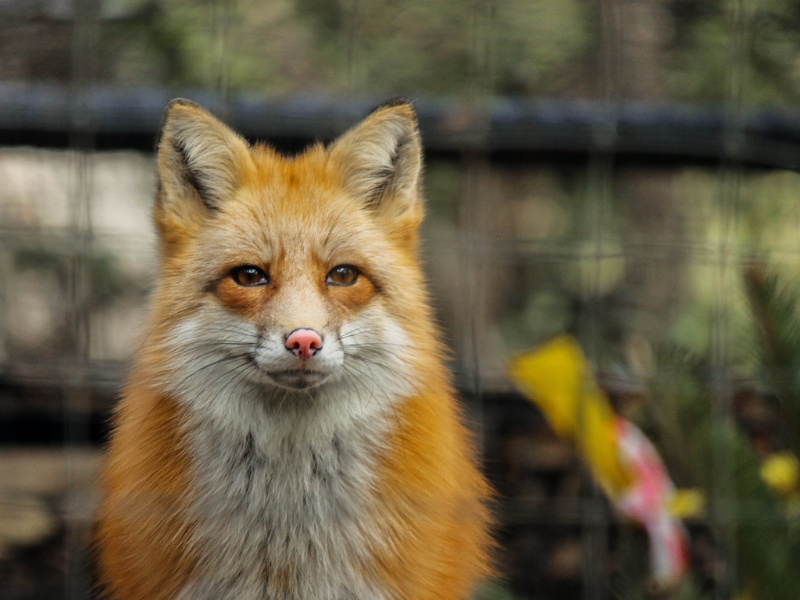fox: (91, 92, 498, 600)
